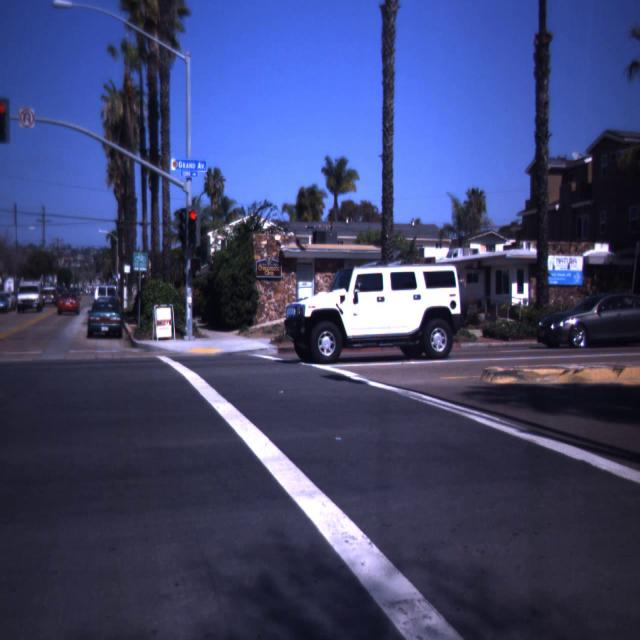kirmizi: (187, 207, 198, 246)
